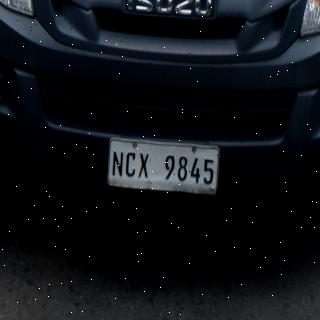license: (109, 139, 220, 195)
